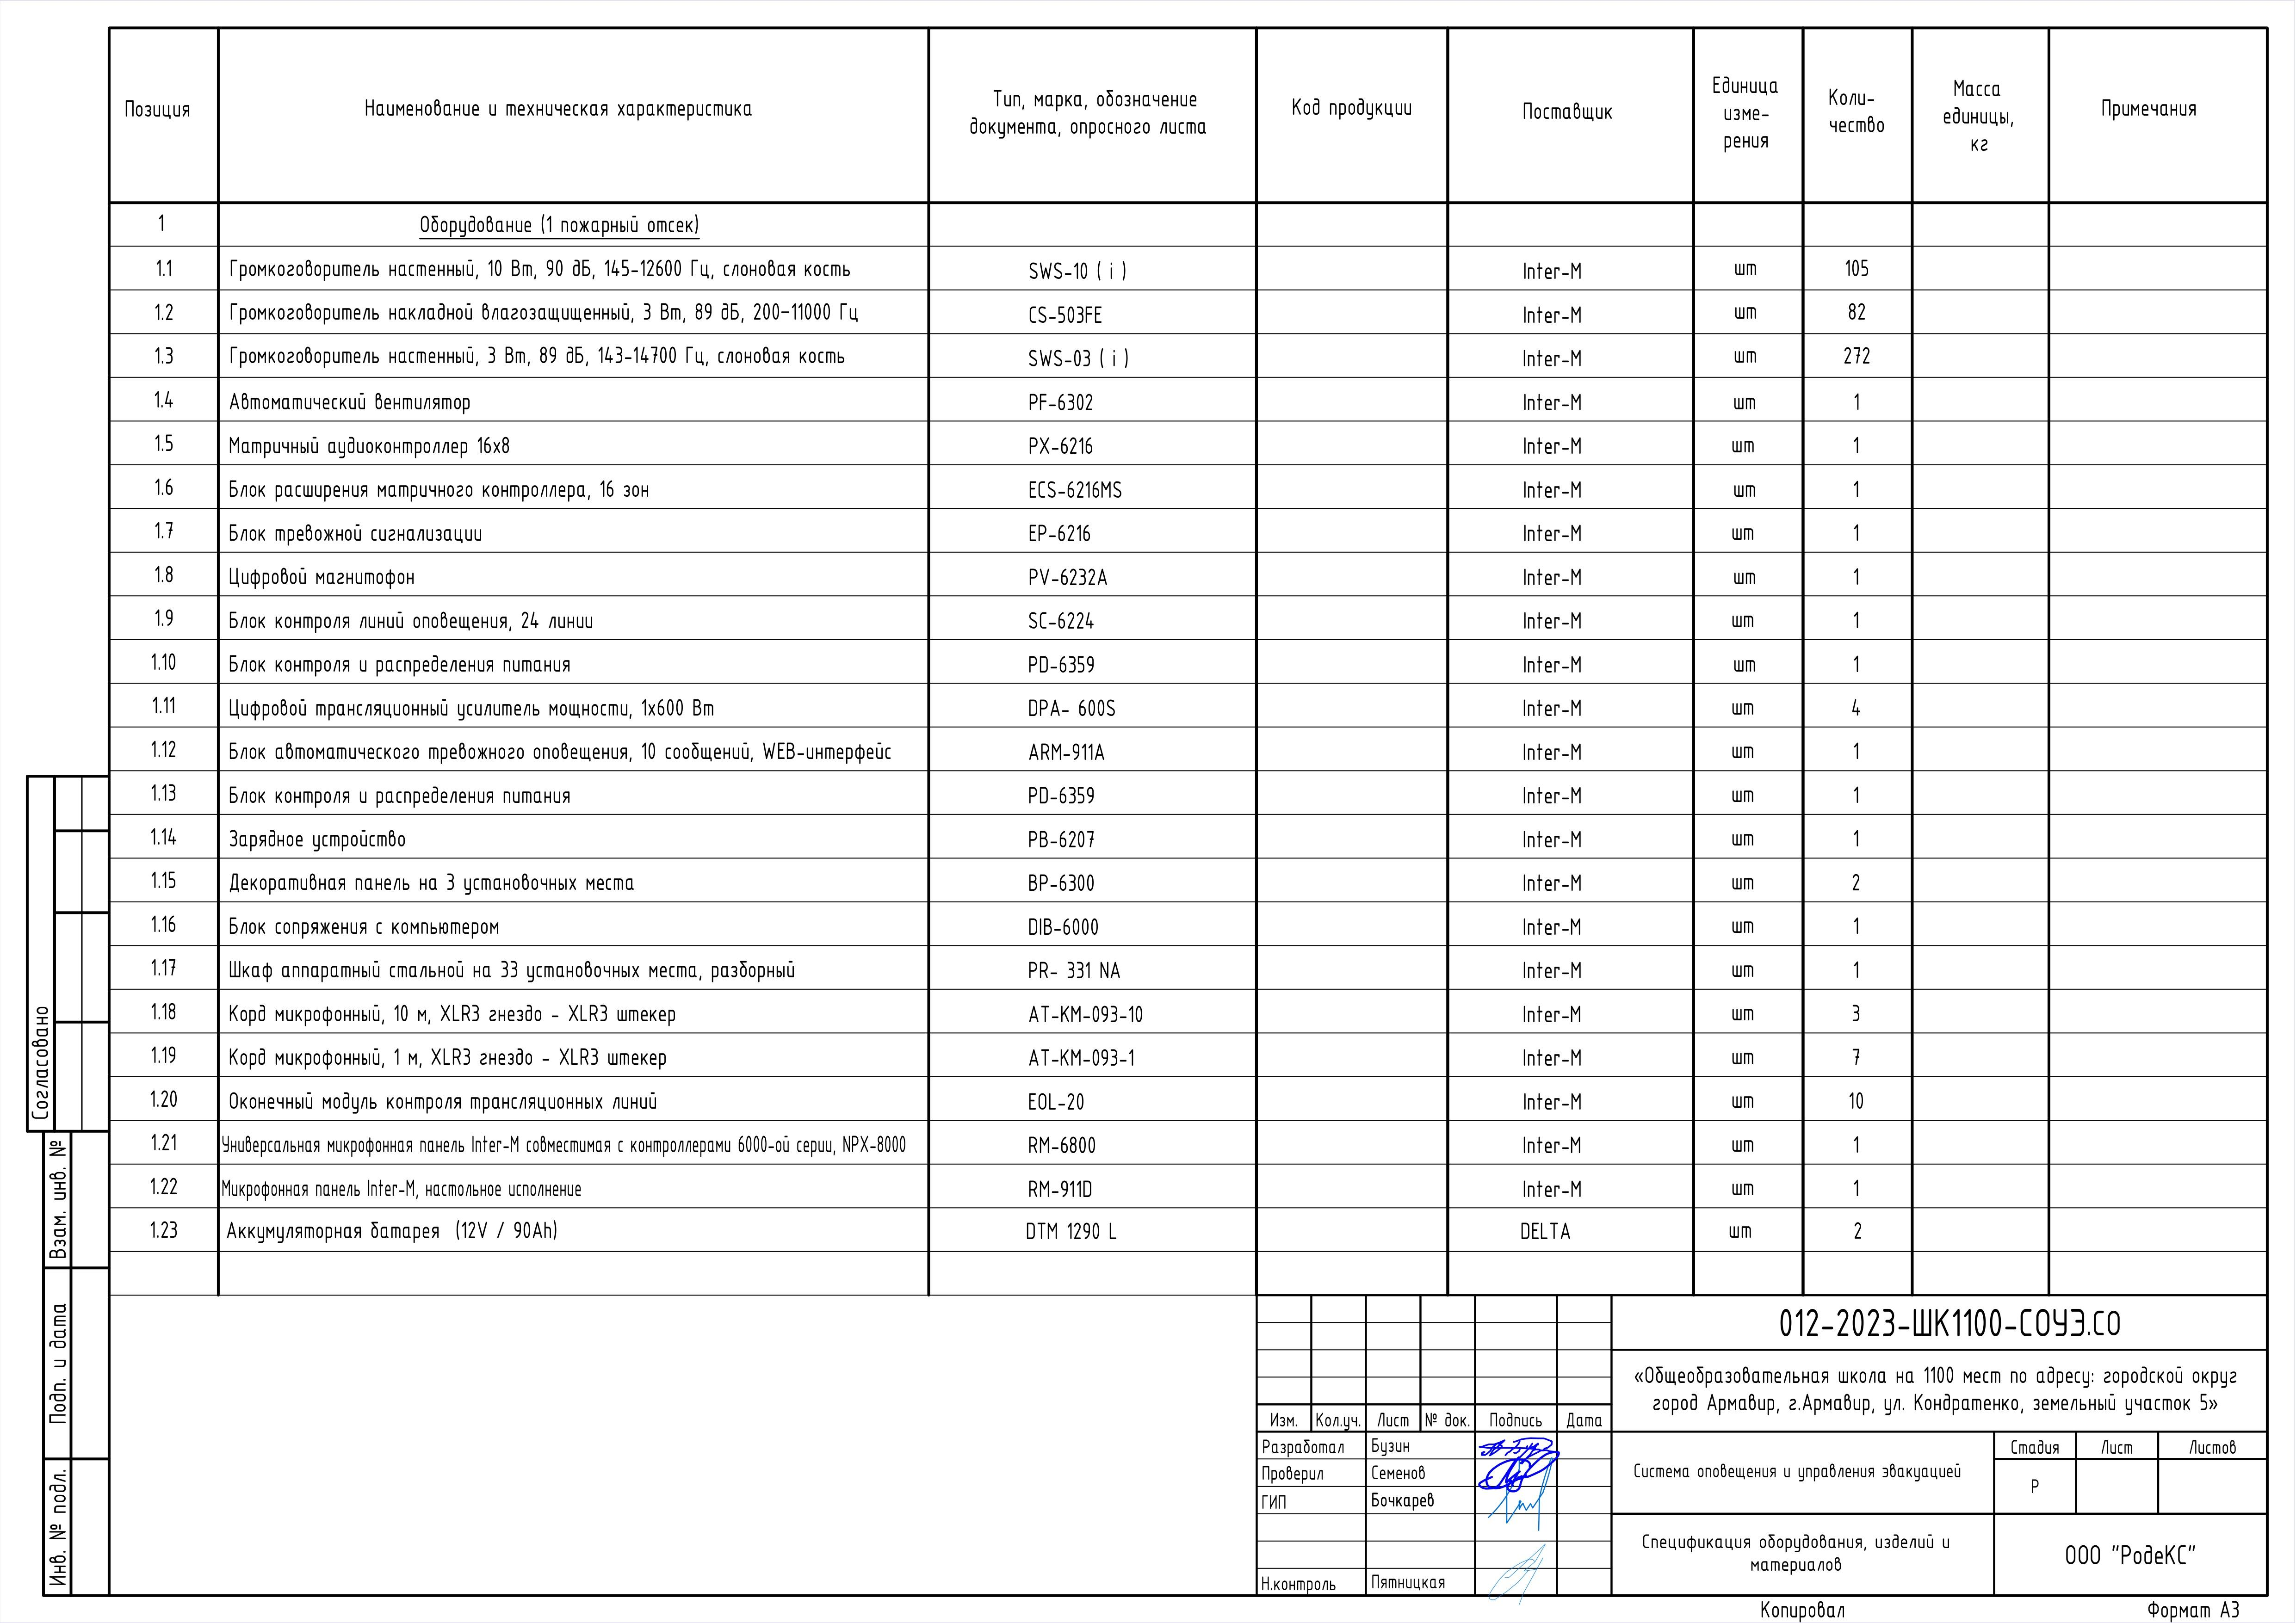Name of costs: (220, 204, 930, 1293)
Note: (928, 202, 1256, 1296)
Quantity: (1802, 204, 1913, 1296)
Unit of measurement: (1694, 202, 1803, 1291)
